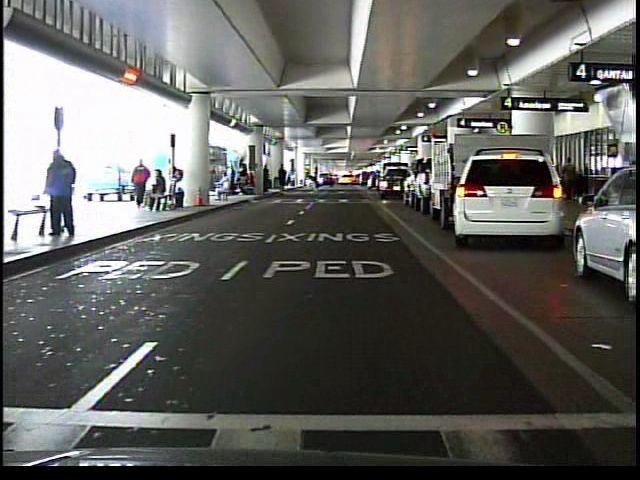person: (44, 145, 85, 240), (213, 170, 233, 205), (308, 163, 323, 193)
